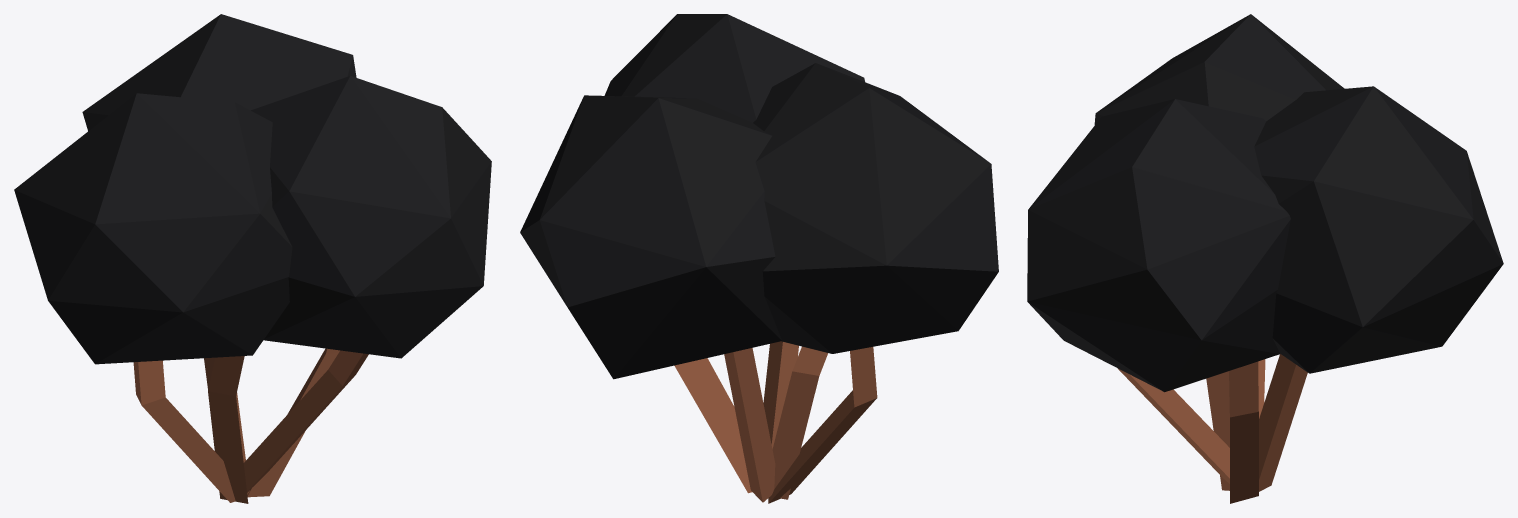
File: buch_with_branches_small.fbx
3 renders of one model, left to right at view 1: azimuth 30°, elevation 25°; view 2: azimuth 150°, elevation 25°; view 3: azimuth 270°, elevation 25°, orthographic. The views are drawn at different scales.
Visible parts, largest first — view 1: buch_with_branches_high; view 2: buch_with_branches_high; view 3: buch_with_branches_high.
Part boxes in pixels (left/top/right/bottom): buch_with_branches_high: left=14, top=14, right=491, bottom=503; buch_with_branches_high: left=520, top=14, right=998, bottom=503; buch_with_branches_high: left=1027, top=14, right=1503, bottom=503.
Bounding box in the file's own units: 51.42 × 50.02 × 50.03.
